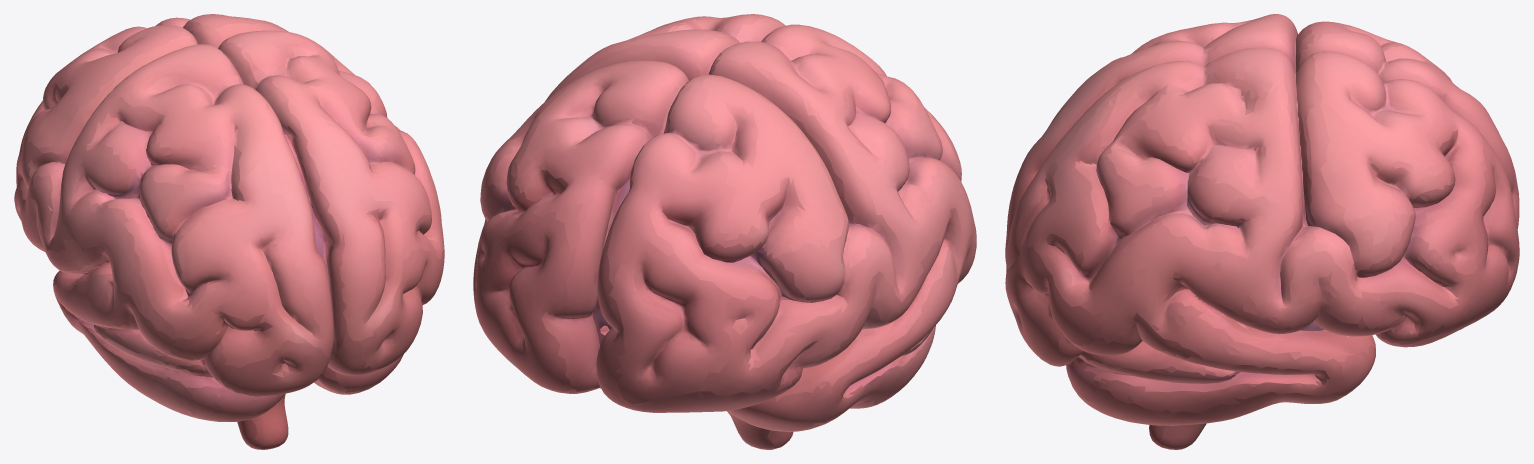
File: brain_glb.glb
3 views of the same model, side by side, from view 1: azimuth 30°, elevation 25°; view 2: azimuth 150°, elevation 25°; view 3: azimuth 270°, elevation 25° (orthographic). The views are drawn at different scales.
Visible parts, largest first — view 1: geometry_0; view 2: geometry_0; view 3: geometry_0.
Boxes of the visible parts, x1,y1,x2,y2 form: geometry_0: [14, 14, 444, 449]; geometry_0: [473, 14, 976, 449]; geometry_0: [1005, 14, 1519, 449].
Size of the model in its own units: 0.17 by 0.1808 by 0.208.
Materials: 1 (1 with a texture image).
